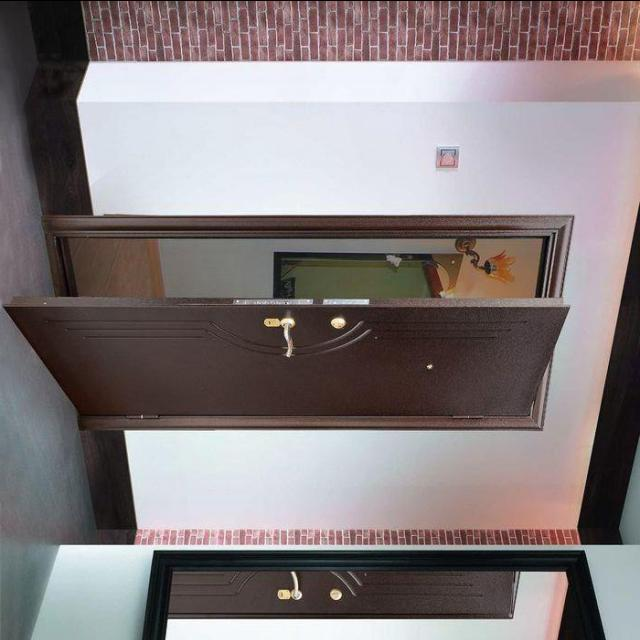open: (32, 222, 557, 424)
